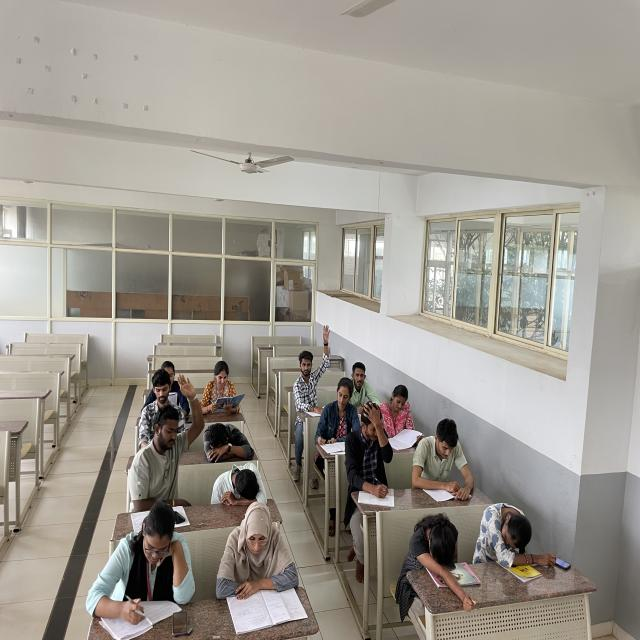Hand Rising: (137, 374, 205, 492), (287, 324, 333, 409)
Reading: (220, 506, 310, 619), (416, 413, 474, 498), (378, 384, 427, 451), (198, 360, 248, 418)
Sleeping: (474, 494, 562, 566), (404, 509, 469, 568), (209, 459, 277, 512), (200, 421, 260, 464)
Writing: (90, 502, 199, 626), (342, 402, 397, 502), (316, 376, 362, 451)
